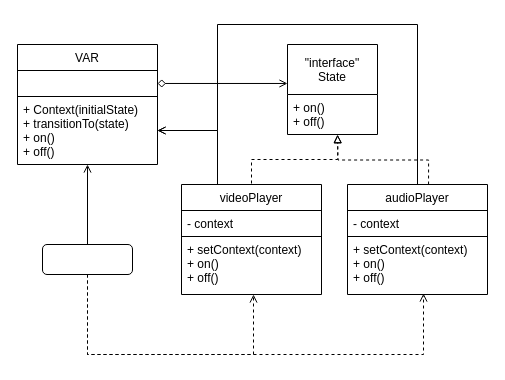
This 505x380 diagram has some shape labels left out. Each missing label, with the centre of its shape:
"- state" belongs at (87,83).
"Client" belongs at (87,259).
